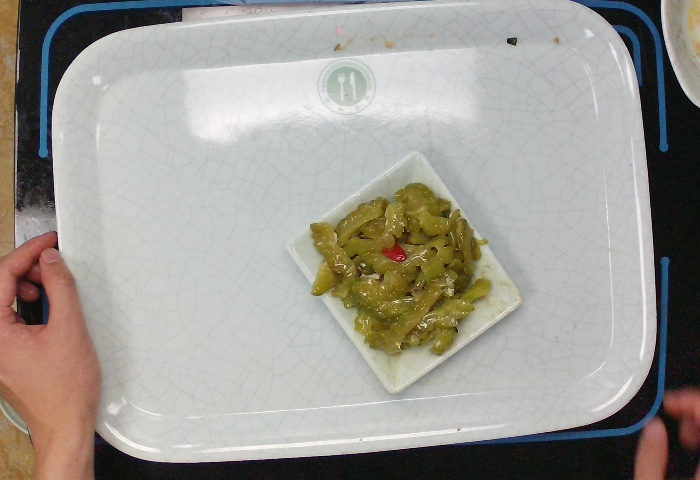WCQzf-Ru_Ci_Si_Fang_Die: (283, 144, 526, 397)
